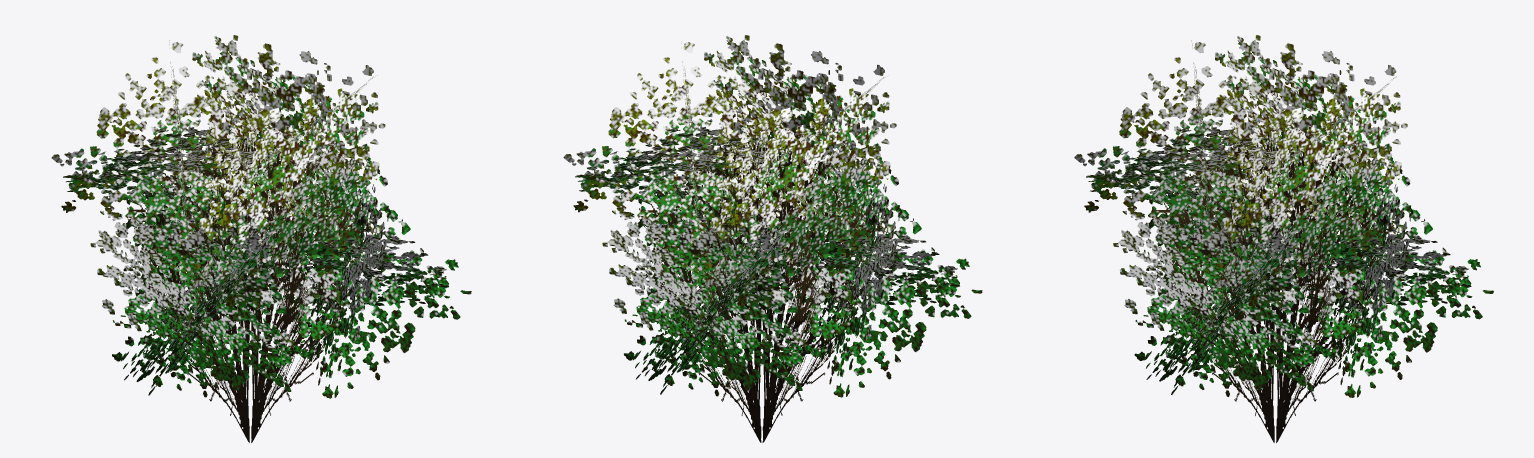
Rendered from meidoorn_1.fbx.
The picture shows the model from 3 angles, left to right: view 1: azimuth 30°, elevation 25°; view 2: azimuth 150°, elevation 25°; view 3: azimuth 270°, elevation 25°; orthographic projection.
Parts seen in each view (by area): view 1: meidoorn_1; view 2: meidoorn_1; view 3: meidoorn_1.
Part boxes in pixels (x1,y1,x2,y2): meidoorn_1: (51,35,471,442); meidoorn_1: (563,35,982,442); meidoorn_1: (1074,35,1493,442).
Bounding box in the file's own units: 458 × 438 × 505.
